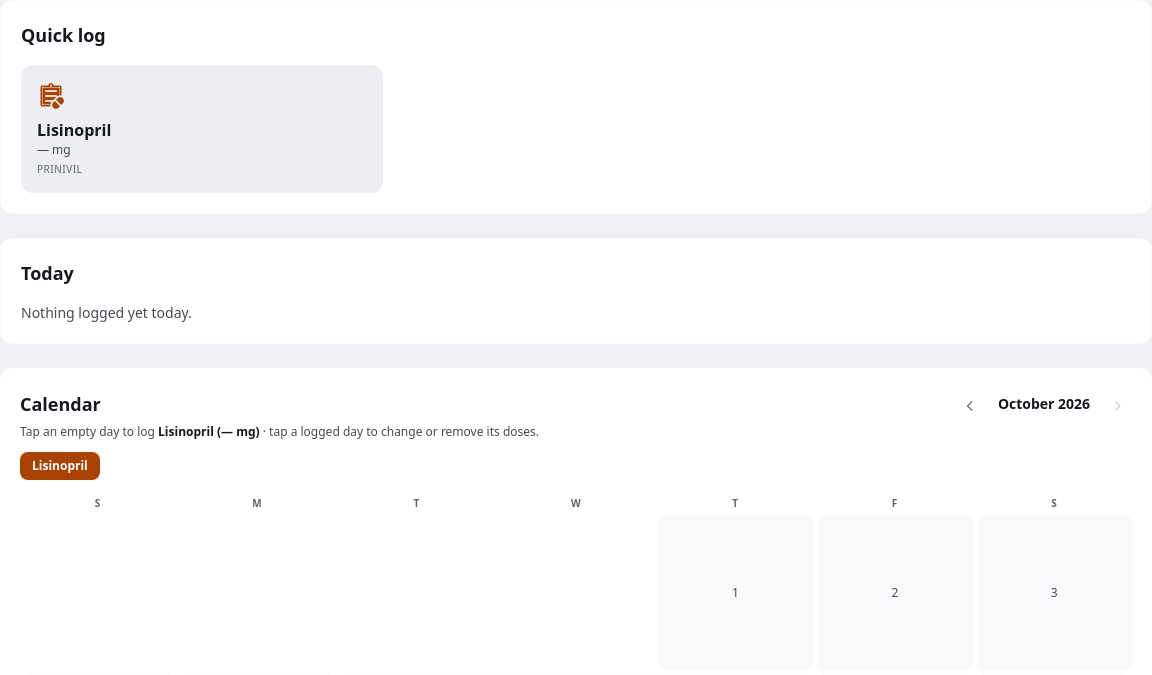
Test: shared intake logging workflow › validates an item without a default amount before logging
The width and height of the screenshot is (1152, 675).
Click the button with aria-label "Quick log Lisinopril" at [74, 130], box [21, 65, 383, 193]
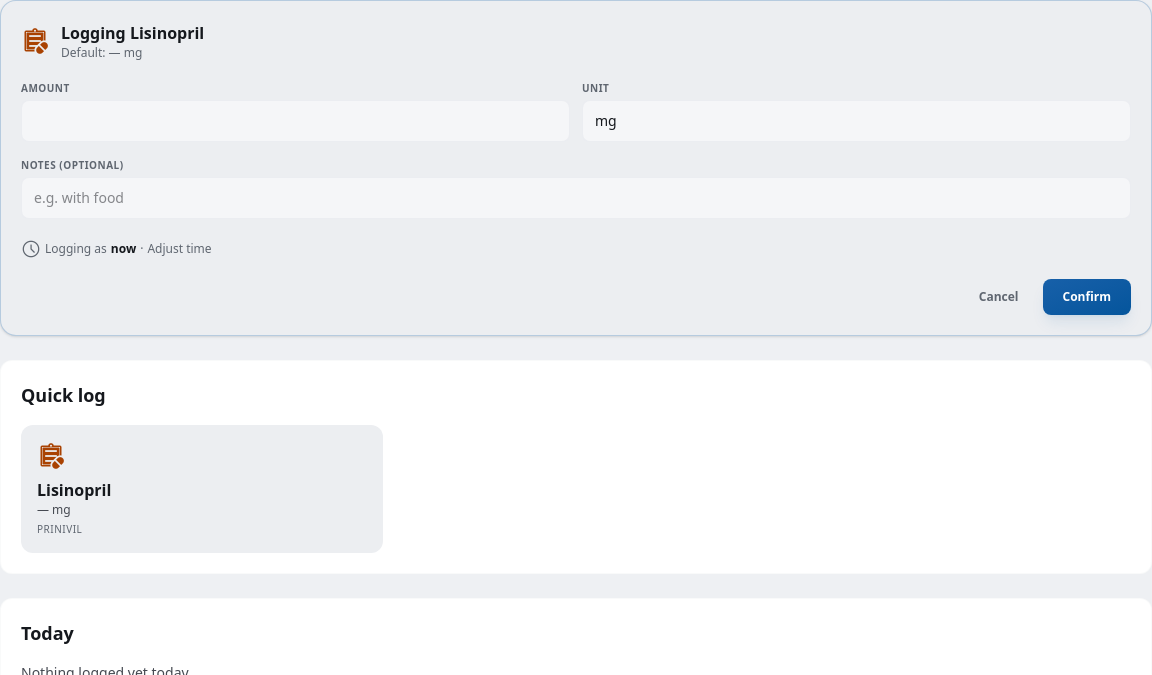
Click the button "Confirm" at [1087, 297], box [1042, 279, 1131, 315]
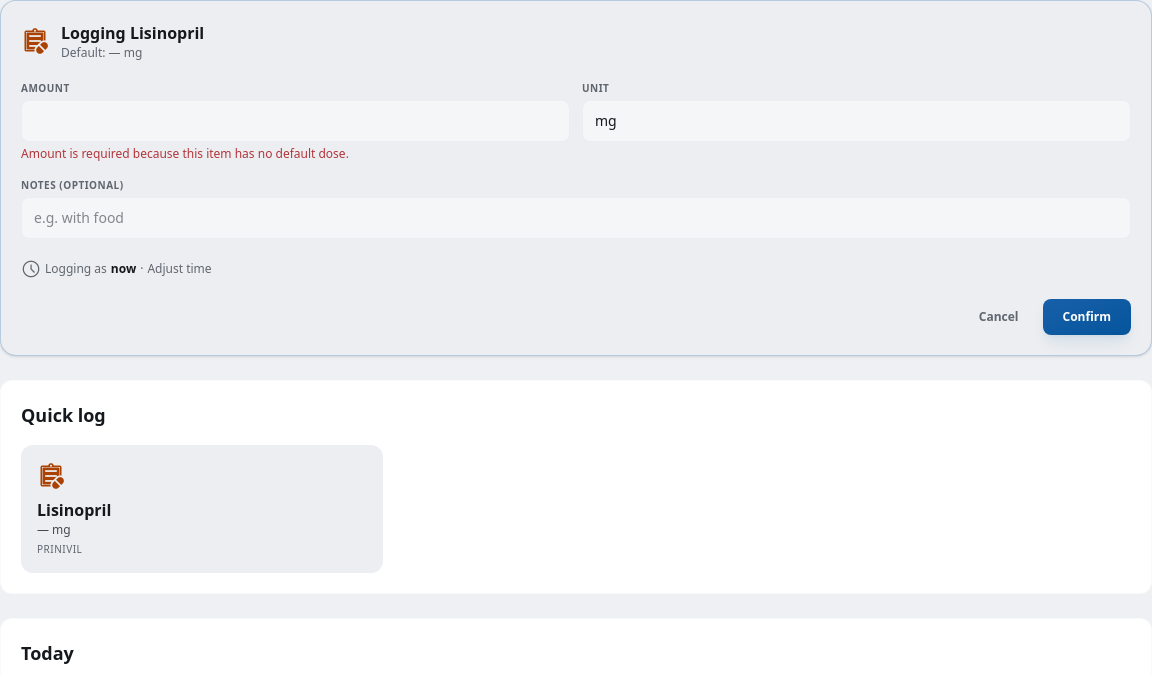
Result: the text "Amount is required because this item has no default dose." is shown at [21, 145, 349, 162]
